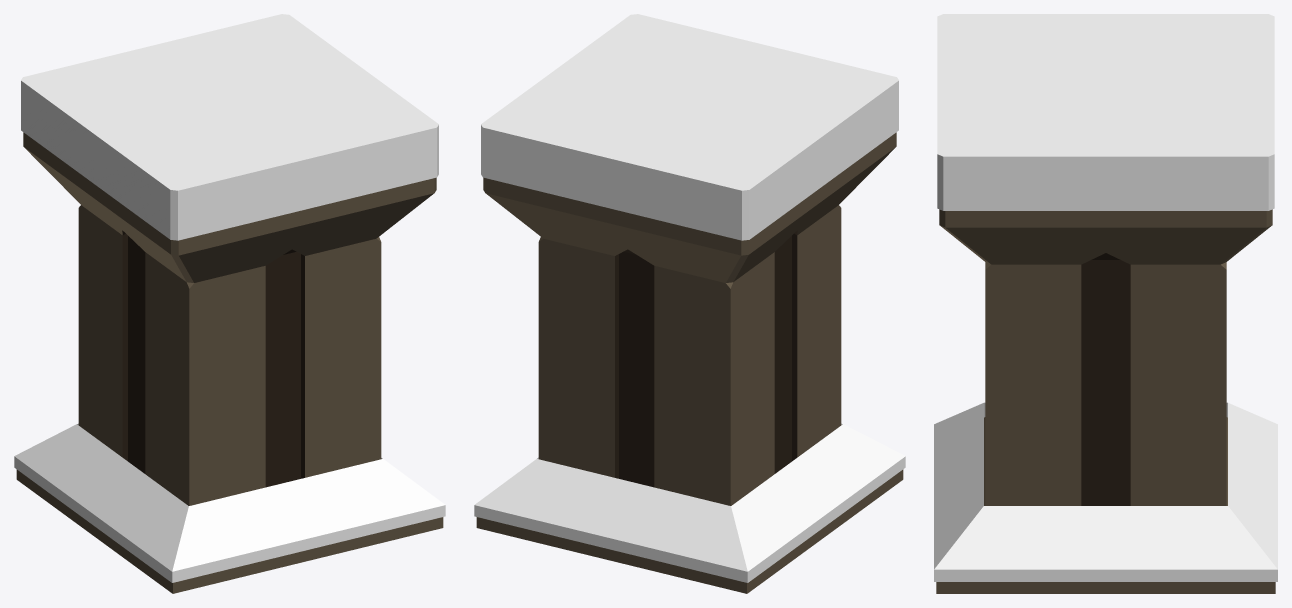
File: slope_snowy.obj
3 views of the same model, side by side, from view 1: azimuth 30°, elevation 25°; view 2: azimuth 150°, elevation 25°; view 3: azimuth 270°, elevation 25° (orthographic). The views are drawn at different scales.
Parts seen in each view (by area): view 1: Plane.001, Plane; view 2: Plane.001, Plane; view 3: Plane.001, Plane.
Part boxes in pixels (<box>): Plane.001: <box>14,14,445,582</box>; Plane: <box>16,132,443,593</box>; Plane.001: <box>474,14,905,582</box>; Plane: <box>476,132,903,593</box>; Plane.001: <box>934,14,1277,581</box>; Plane: <box>936,209,1275,593</box>.
Size of the model in its own units: 2.02 by 2.84 by 2.02.
